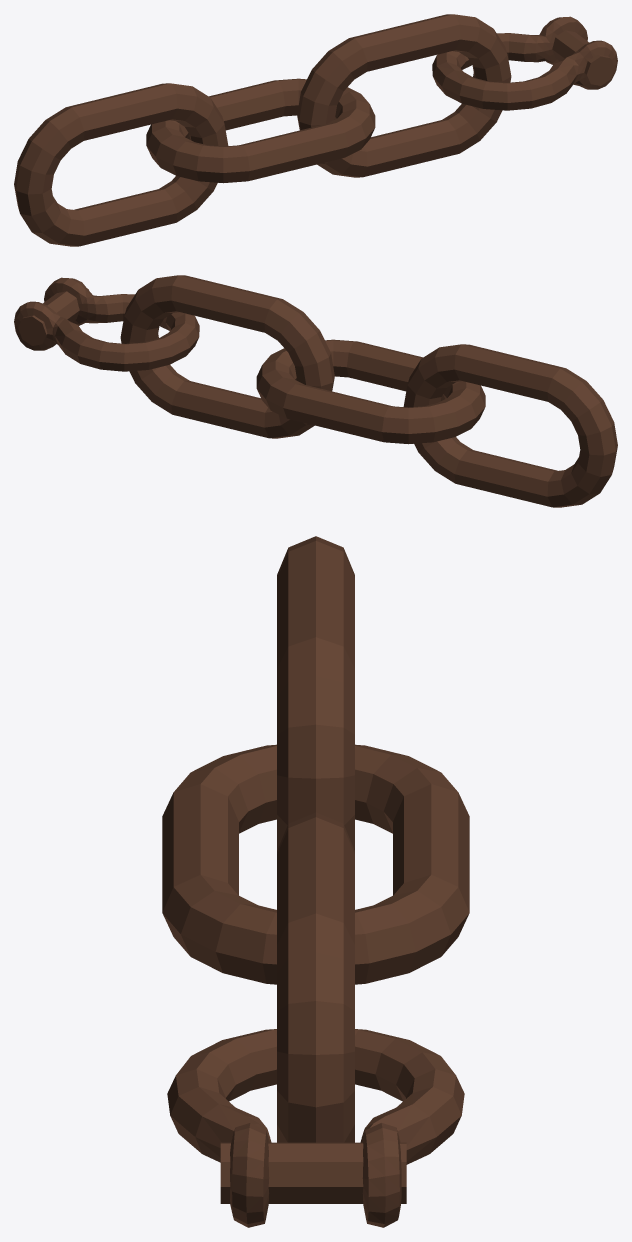
3 renders of one model, top to bottom at view 1: azimuth 30°, elevation 25°; view 2: azimuth 150°, elevation 25°; view 3: azimuth 270°, elevation 25°, orthographic. The views are drawn at different scales.
Visible parts, largest first — view 1: product-8f61a623-95fb-45dc-9704-d019b9f38b3b-body, product-3d025fbe-f4f0-47c9-a83e-63e25334e936-body, product-7dd0758c-c311-4ed3-91f2-9de5d92e3a93-body, product-f7b17597-6ac0-438e-bbe2-2838e5c48235-body; view 2: product-8f61a623-95fb-45dc-9704-d019b9f38b3b-body, product-3d025fbe-f4f0-47c9-a83e-63e25334e936-body, product-7dd0758c-c311-4ed3-91f2-9de5d92e3a93-body, product-f7b17597-6ac0-438e-bbe2-2838e5c48235-body; view 3: product-7dd0758c-c311-4ed3-91f2-9de5d92e3a93-body, product-f7b17597-6ac0-438e-bbe2-2838e5c48235-body, product-3d025fbe-f4f0-47c9-a83e-63e25334e936-body, product-8f61a623-95fb-45dc-9704-d019b9f38b3b-body.
Boxes of the visible parts, x1,y1,x2,y2 form: product-8f61a623-95fb-45dc-9704-d019b9f38b3b-body: [14, 83, 228, 246]; product-3d025fbe-f4f0-47c9-a83e-63e25334e936-body: [297, 14, 511, 177]; product-7dd0758c-c311-4ed3-91f2-9de5d92e3a93-body: [146, 78, 375, 183]; product-f7b17597-6ac0-438e-bbe2-2838e5c48235-body: [432, 16, 617, 110]; product-8f61a623-95fb-45dc-9704-d019b9f38b3b-body: [403, 344, 617, 507]; product-3d025fbe-f4f0-47c9-a83e-63e25334e936-body: [120, 275, 334, 438]; product-7dd0758c-c311-4ed3-91f2-9de5d92e3a93-body: [256, 339, 485, 444]; product-f7b17597-6ac0-438e-bbe2-2838e5c48235-body: [14, 277, 199, 371]; product-7dd0758c-c311-4ed3-91f2-9de5d92e3a93-body: [162, 744, 469, 984]; product-f7b17597-6ac0-438e-bbe2-2838e5c48235-body: [167, 1029, 464, 1227]; product-3d025fbe-f4f0-47c9-a83e-63e25334e936-body: [277, 812, 354, 1142]; product-8f61a623-95fb-45dc-9704-d019b9f38b3b-body: [277, 536, 354, 850].
Bounding box in the file's own units: 0.6928 × 0.1576 × 0.1576.
